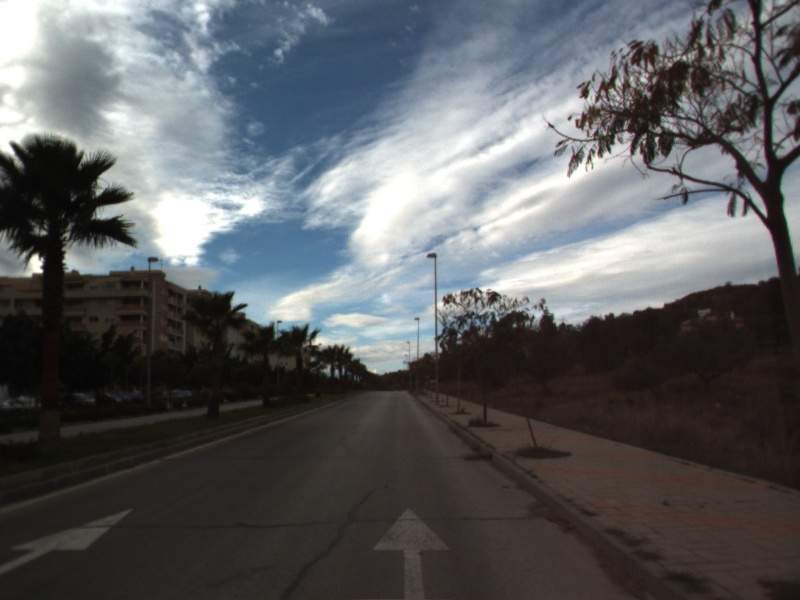STRAIGHT: (1, 506, 136, 577), (371, 505, 452, 600)
